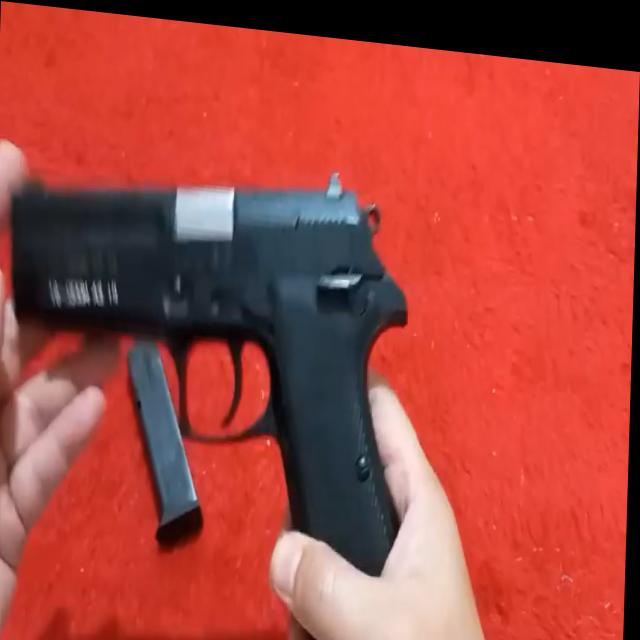handgun: (0, 147, 424, 557)
